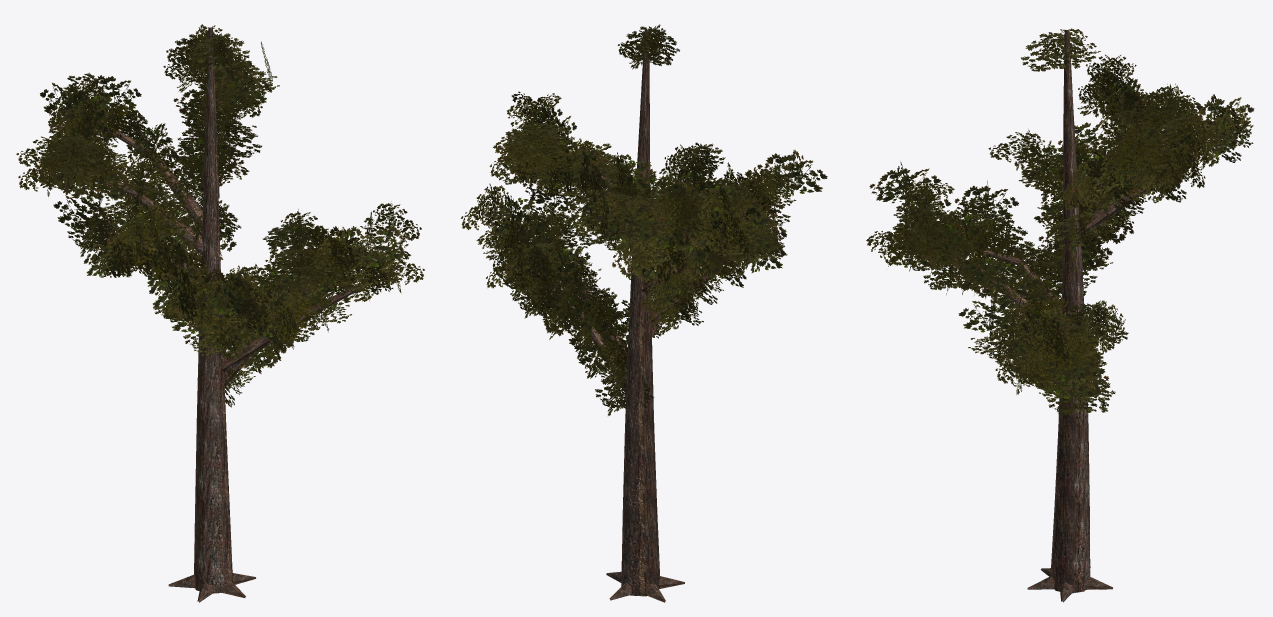
The model's file is tree_3d_01_lod1.glb.
The picture shows the model from 3 angles, left to right: view 1: azimuth 30°, elevation 25°; view 2: azimuth 150°, elevation 25°; view 3: azimuth 270°, elevation 25°; orthographic projection.
Visible parts, largest first — view 1: foliage_cards, wood_geometry; view 2: foliage_cards, wood_geometry; view 3: foliage_cards, wood_geometry.
Part boxes in pixels (x1=…): foliage_cards: x1=16, y1=24, x2=424, y2=407; wood_geometry: x1=73, y1=27, x2=400, y2=602; foliage_cards: x1=461, y1=24, x2=827, y2=415; wood_geometry: x1=516, y1=30, x2=758, y2=602; foliage_cards: x1=866, y1=28, x2=1254, y2=423; wood_geometry: x1=906, y1=29, x2=1218, y2=602.
Size of the model in its own units: 6.63 by 10.07 by 6.51.
2 materials, 2 textured.
